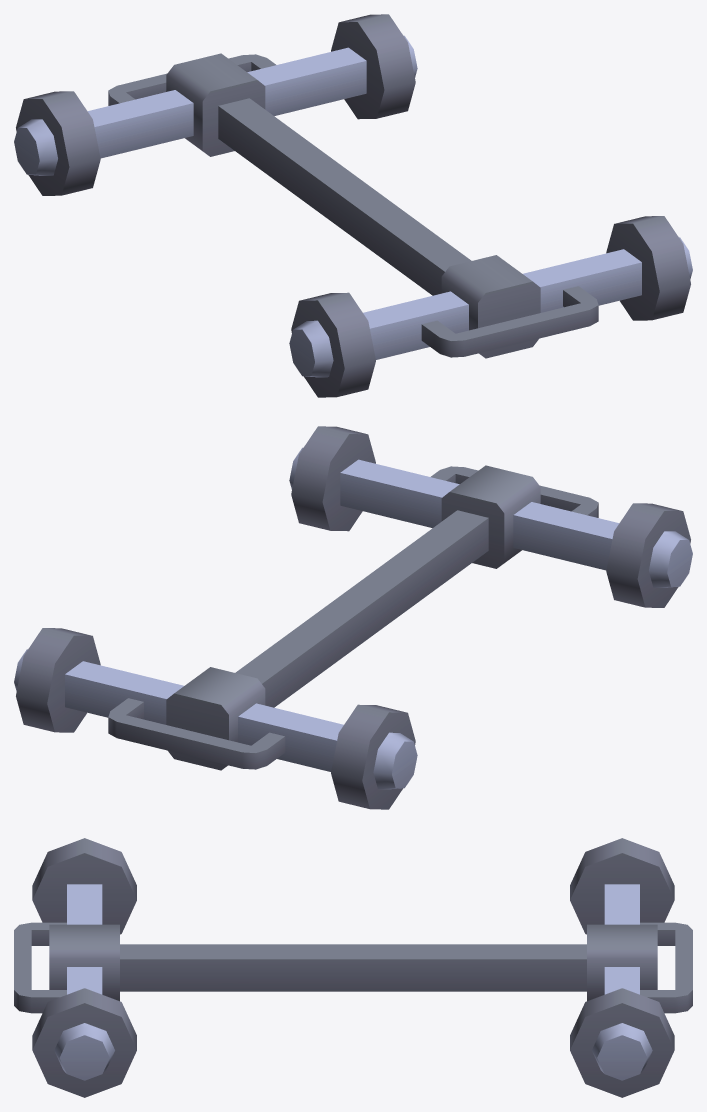
Rendered from debris-drivetrain.glb.
3 renders of one model, top to bottom at view 1: azimuth 30°, elevation 25°; view 2: azimuth 150°, elevation 25°; view 3: azimuth 270°, elevation 25°, orthographic. The views are drawn at different scales.
Parts seen in each view (by area): view 1: debris-drivetrain; view 2: debris-drivetrain; view 3: debris-drivetrain.
Part boxes in pixels (box(x1,y1,x2,y2)): debris-drivetrain: box(14, 14, 692, 397); debris-drivetrain: box(14, 426, 692, 809); debris-drivetrain: box(14, 838, 692, 1097).
Bounding box in the file's own units: 1.2 × 0.296 × 1.92.
Materials: 1 (1 with a texture image).
